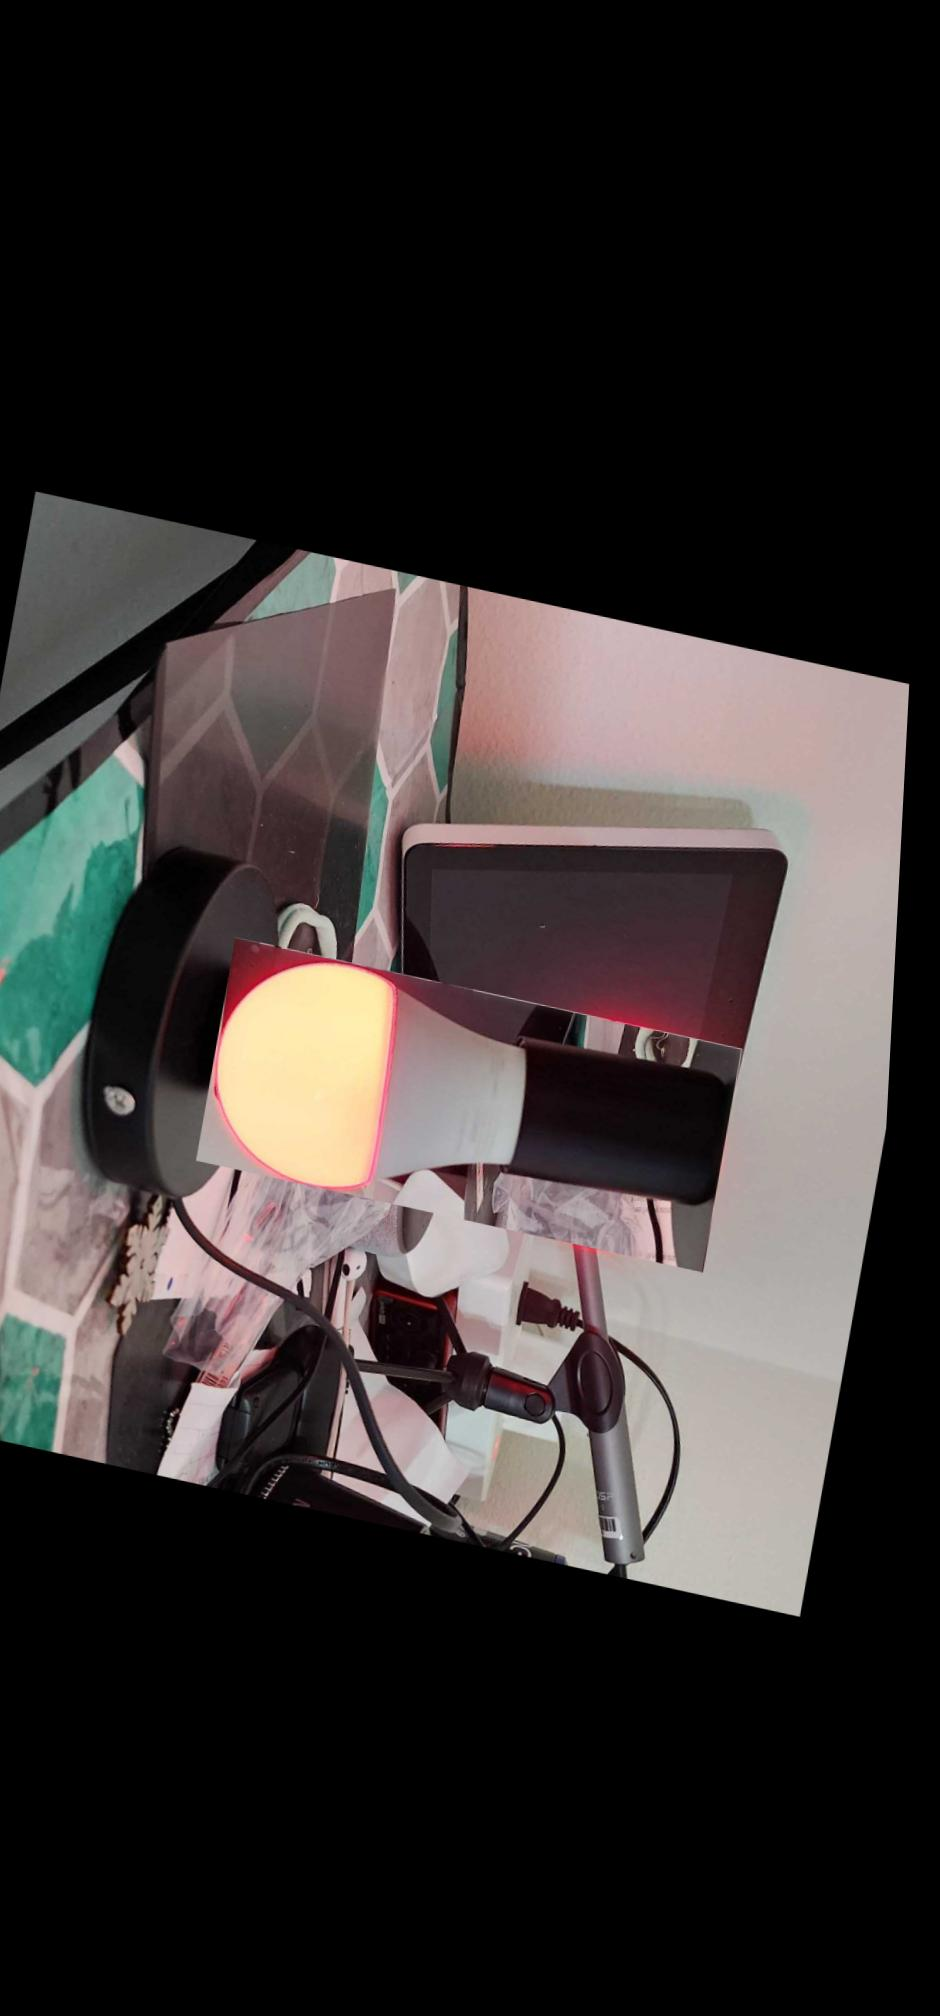TubeLight: (206, 928, 756, 1257)
